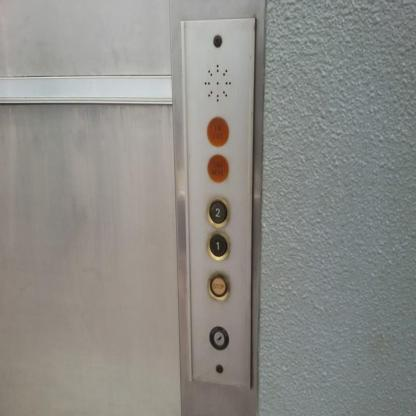1: (206, 230, 230, 263)
2: (206, 195, 230, 228)
keyhole: (208, 321, 229, 352)
text_car here: (206, 153, 228, 183)
text_in use: (206, 115, 228, 147)
text_stop: (205, 270, 231, 303)
